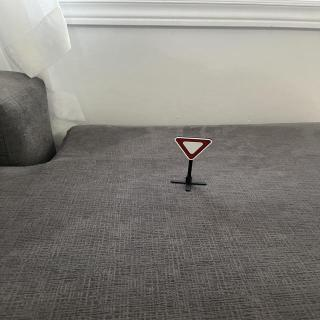sign_yield: (175, 137, 215, 162)
